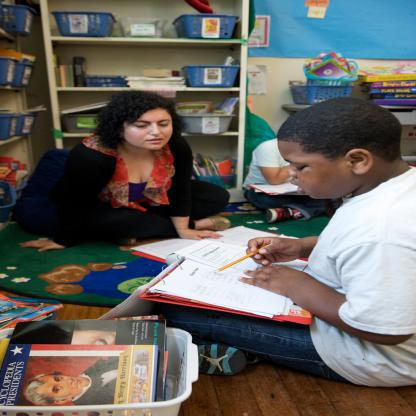book: (0, 310, 169, 416), (129, 236, 317, 330), (132, 220, 300, 270), (0, 294, 71, 338), (189, 152, 240, 188), (249, 178, 308, 192)
